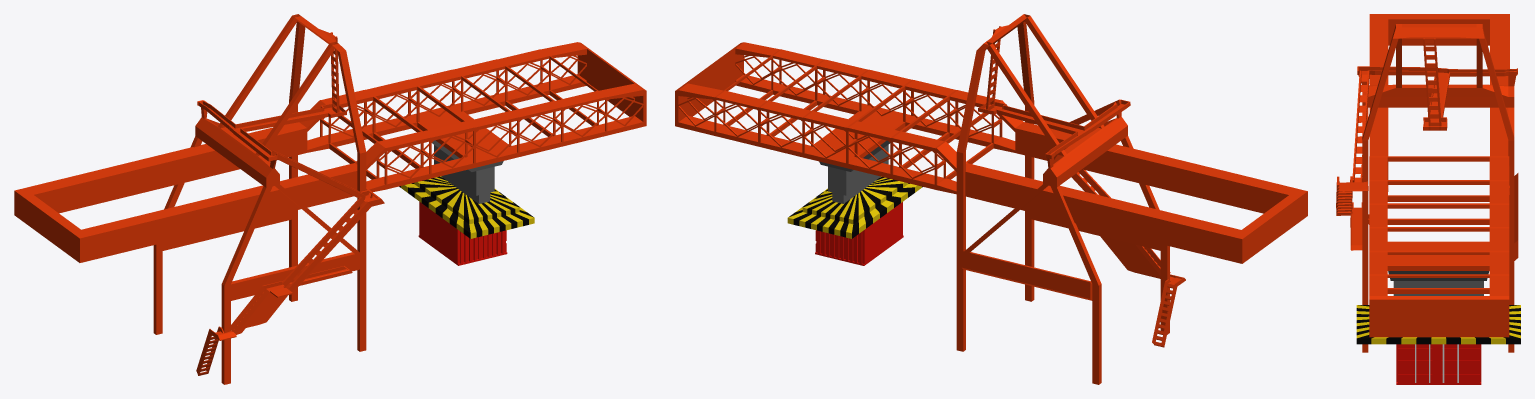
Rendered from sts-crane.lod0.glb.
3 views of the same model, side by side, from view 1: azimuth 30°, elevation 25°; view 2: azimuth 150°, elevation 25°; view 3: azimuth 270°, elevation 25° (orthographic). The views are drawn at different scales.
Visible parts, largest first — view 1: Cube.001_Material.001_0, Cube.001_Material.004_0, Cube.001_Material.007_0; view 2: Cube.001_Material.001_0, Cube.001_Material.004_0, Cube.001_Material.007_0; view 3: Cube.001_Material.001_0, Cube.001_Material.004_0, Cube.001_Material.007_0.
Part boxes in pixels (x1,y1,x2,y2): Cube.001_Material.001_0: (14, 14, 646, 384); Cube.001_Material.004_0: (399, 140, 534, 238); Cube.001_Material.007_0: (418, 201, 507, 265); Cube.001_Material.001_0: (675, 14, 1307, 384); Cube.001_Material.004_0: (787, 140, 922, 238); Cube.001_Material.007_0: (815, 202, 903, 265); Cube.001_Material.001_0: (1336, 14, 1518, 352); Cube.001_Material.004_0: (1356, 271, 1520, 382); Cube.001_Material.007_0: (1396, 344, 1481, 384).
Bounding box in the file's own units: 95.29 × 48 × 25.16.
